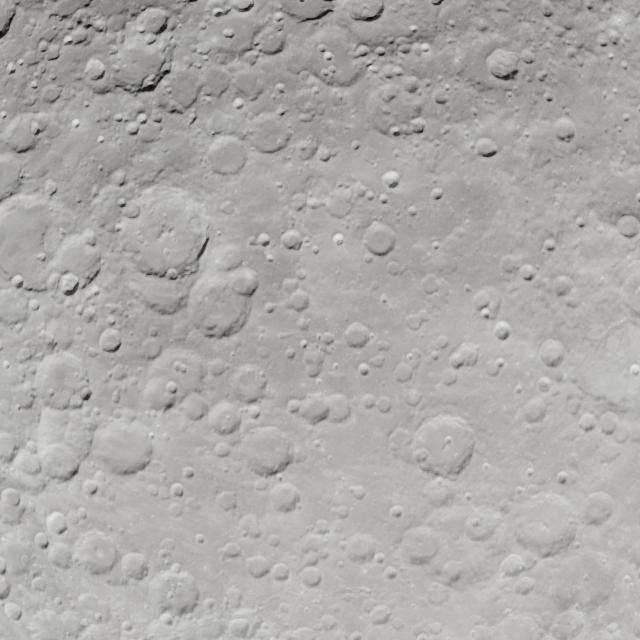crater: (512, 492, 579, 554), (124, 266, 196, 318), (31, 350, 91, 411), (90, 418, 153, 475), (343, 2, 421, 46), (554, 547, 614, 603), (524, 116, 578, 165), (238, 426, 292, 474), (423, 504, 479, 550), (72, 531, 121, 577), (243, 113, 294, 155), (2, 112, 48, 156), (164, 68, 212, 110), (38, 440, 84, 480), (205, 137, 248, 176), (40, 310, 81, 349), (8, 447, 46, 489), (229, 66, 275, 100), (399, 526, 440, 564), (252, 15, 289, 56), (493, 612, 541, 640), (205, 108, 247, 140), (141, 376, 178, 412), (1, 536, 33, 576), (1, 150, 26, 201), (592, 432, 628, 467), (362, 222, 397, 256), (551, 608, 589, 639), (278, 1, 336, 21), (582, 491, 616, 525), (207, 402, 242, 434), (211, 242, 248, 272), (485, 48, 520, 79), (268, 481, 301, 513), (470, 286, 502, 319), (619, 265, 640, 314), (134, 7, 170, 35), (448, 341, 482, 370), (228, 267, 261, 296), (297, 532, 328, 562), (227, 606, 259, 635), (595, 21, 627, 50), (298, 396, 331, 424), (57, 609, 89, 637), (301, 347, 328, 379), (122, 548, 147, 582), (179, 393, 208, 421), (342, 321, 372, 348), (538, 338, 564, 368), (47, 540, 73, 568), (76, 592, 105, 617), (522, 396, 548, 423), (388, 427, 413, 455), (236, 513, 262, 539), (499, 553, 527, 577), (348, 2, 385, 20), (552, 116, 577, 142), (83, 58, 108, 84), (326, 398, 352, 423), (404, 308, 431, 332), (244, 554, 270, 578), (98, 328, 123, 352), (616, 214, 640, 238), (441, 560, 466, 583), (420, 273, 443, 296), (45, 511, 67, 535), (598, 412, 620, 436), (473, 137, 498, 158), (287, 289, 310, 311), (280, 229, 304, 250), (500, 253, 524, 274), (552, 275, 574, 297), (58, 273, 80, 295), (368, 604, 391, 625), (513, 574, 536, 595), (1, 488, 22, 510), (140, 338, 163, 358), (299, 566, 322, 586), (67, 26, 90, 46), (218, 542, 242, 560), (216, 491, 237, 511), (492, 320, 512, 340), (289, 625, 315, 640), (224, 588, 243, 608), (578, 412, 597, 432), (319, 614, 340, 632), (381, 170, 400, 189), (394, 363, 413, 382), (402, 75, 421, 94), (386, 258, 406, 276), (271, 563, 290, 581), (486, 358, 505, 376), (109, 168, 127, 187), (121, 201, 141, 218), (412, 448, 430, 466), (4, 602, 22, 620), (82, 479, 100, 496), (432, 88, 450, 105), (410, 117, 428, 134), (214, 441, 232, 458), (208, 359, 226, 376), (518, 264, 536, 280), (376, 395, 392, 413), (406, 388, 422, 406), (352, 44, 370, 59), (43, 178, 58, 196), (0, 577, 12, 599), (158, 612, 174, 628), (286, 399, 302, 415), (169, 482, 185, 498), (349, 484, 365, 500), (520, 48, 536, 64), (34, 532, 49, 549), (16, 348, 32, 363), (167, 502, 183, 517), (536, 377, 552, 392), (31, 577, 47, 592), (297, 315, 312, 331), (317, 147, 333, 162), (389, 504, 404, 520), (370, 353, 386, 368), (256, 232, 271, 247), (246, 406, 262, 420), (360, 394, 376, 408), (334, 505, 349, 519), (357, 362, 371, 377), (125, 122, 140, 136), (11, 274, 25, 289), (384, 566, 398, 580), (435, 335, 449, 349), (165, 380, 178, 394), (556, 470, 569, 484), (597, 34, 610, 48), (30, 120, 42, 135), (182, 466, 195, 479), (431, 187, 444, 200), (332, 232, 345, 245), (232, 97, 245, 110), (543, 239, 556, 252), (606, 622, 620, 634), (374, 552, 386, 565), (268, 534, 280, 547), (263, 302, 276, 314), (165, 268, 178, 280), (285, 346, 297, 359), (28, 298, 40, 311), (194, 533, 206, 545), (536, 70, 548, 82), (6, 62, 18, 74), (136, 113, 148, 124), (351, 139, 362, 151), (389, 126, 401, 137), (222, 28, 235, 38), (121, 621, 132, 632), (443, 435, 454, 446), (379, 193, 389, 204), (322, 51, 333, 61), (116, 197, 127, 207), (407, 205, 417, 216), (576, 216, 586, 227), (363, 254, 373, 264), (622, 112, 632, 122), (633, 363, 640, 377), (463, 492, 472, 502), (2, 360, 11, 370), (526, 467, 534, 477)
